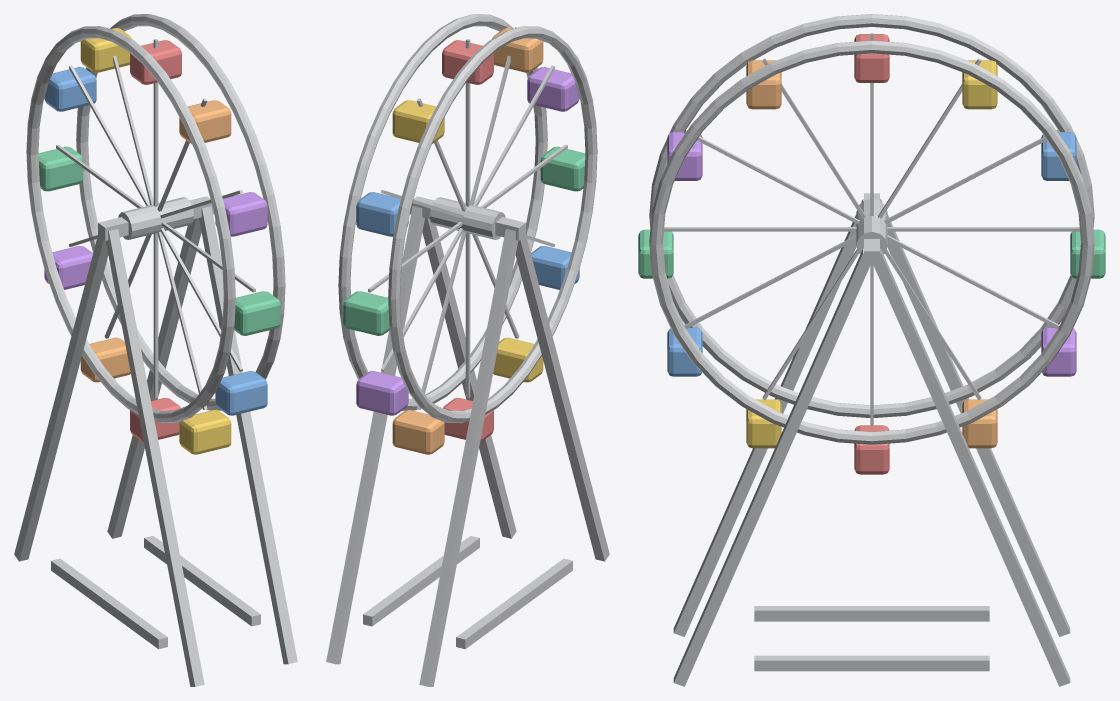
Rendered from ferris.glb.
3 renders of one model, left to right at view 1: azimuth 30°, elevation 25°; view 2: azimuth 150°, elevation 25°; view 3: azimuth 270°, elevation 25°, orthographic. The views are drawn at different scales.
Parts seen in each view (by area): view 1: wheel, frame; view 2: wheel, frame; view 3: wheel, frame.
Part boxes in pixels (x1=…): wheel: x1=26, y1=14, x2=285, y2=454; frame: x1=14, y1=196, x2=297, y2=686; wheel: x1=338, y1=14, x2=597, y2=454; frame: x1=326, y1=196, x2=609, y2=686; wheel: x1=638, y1=14, x2=1105, y2=474; frame: x1=673, y1=193, x2=1070, y2=686.
Bounding box in the file's own units: 7 × 35.53 × 23.8.
